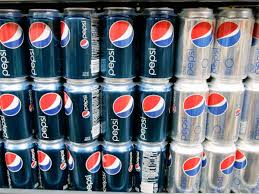pepsi-can: (99, 4, 137, 82), (178, 5, 213, 81), (139, 6, 172, 84), (218, 6, 249, 84), (64, 87, 100, 144), (30, 85, 63, 142), (175, 86, 206, 142), (211, 89, 238, 147), (174, 149, 204, 193), (207, 151, 236, 193)
